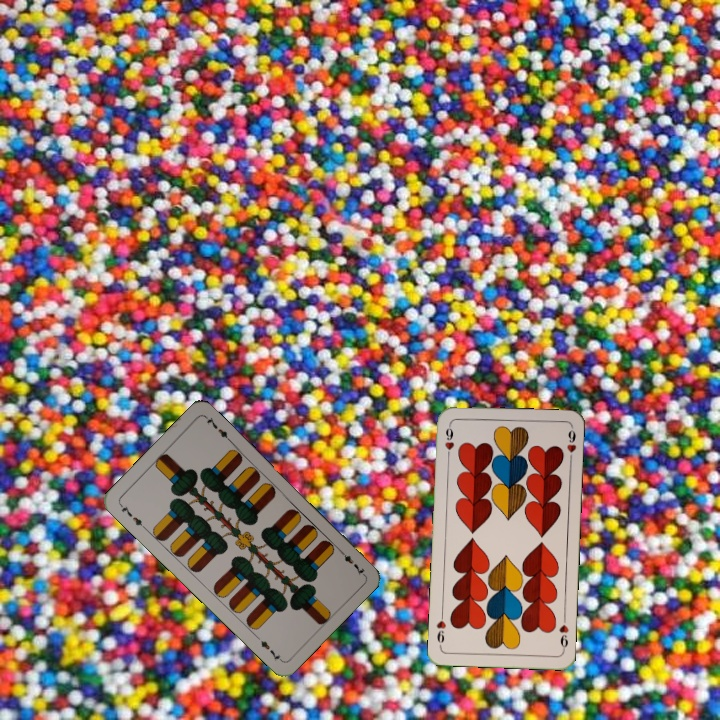E7: (116, 500, 148, 532), (335, 545, 367, 577)
H9: (555, 613, 571, 654), (441, 420, 457, 461)
